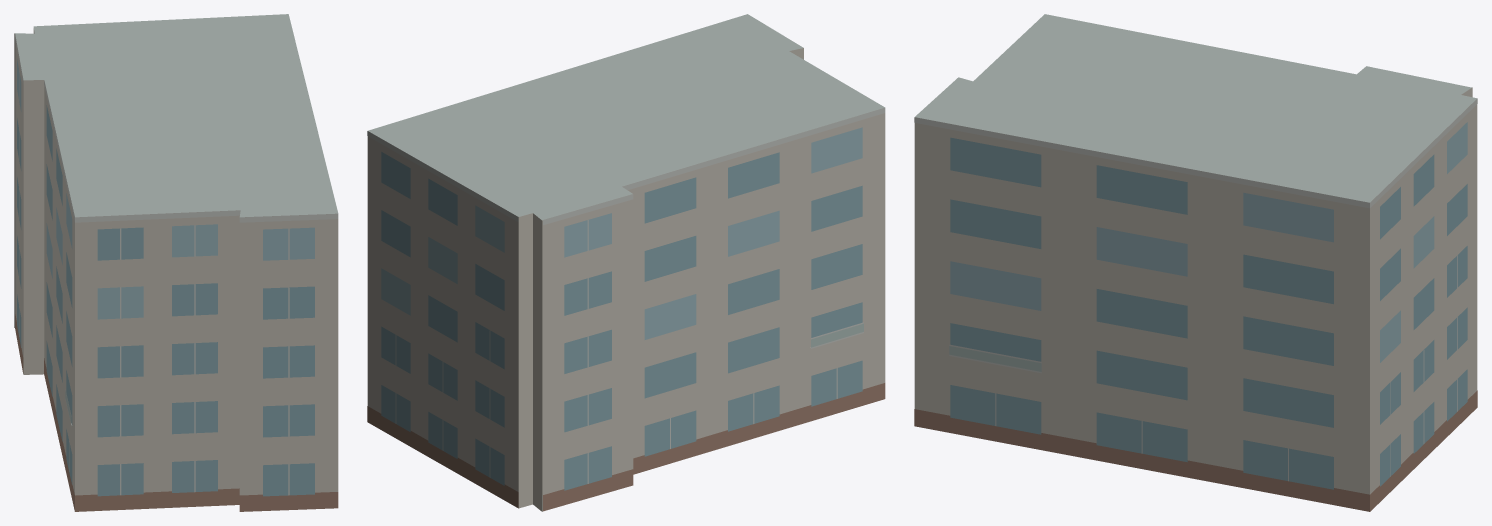
File: survey-upis-32669273.glb
3 views of the same model, side by side, from view 1: azimuth 30°, elevation 25°; view 2: azimuth 150°, elevation 25°; view 3: azimuth 270°, elevation 25° (orthographic). The views are drawn at different scales.
Parts seen in each view (by area): view 1: survey-upis-32669273.tmp; view 2: survey-upis-32669273.tmp; view 3: survey-upis-32669273.tmp.
Part boxes in pixels (x1=…): survey-upis-32669273.tmp: x1=14, y1=14, x2=338, y2=511; survey-upis-32669273.tmp: x1=367, y1=14, x2=885, y2=511; survey-upis-32669273.tmp: x1=914, y1=14, x2=1477, y2=511.
Size of the model in its own units: 17.42 by 13.3 by 21.96.
